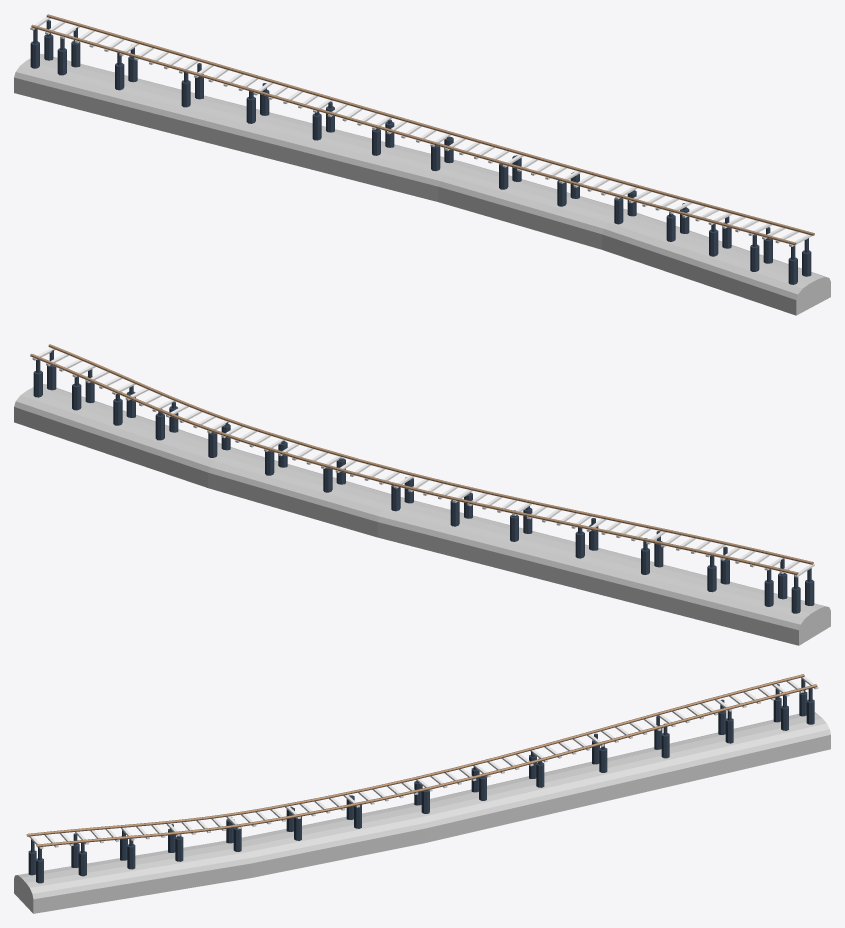
Rendered from RC_Playground_01.fbx.
The picture shows the model from 3 angles, top to bottom: view 1: azimuth 30°, elevation 25°; view 2: azimuth 210°, elevation 25°; view 3: azimuth 270°, elevation 25°; orthographic projection. The views are drawn at different scales.
Parts seen in each view (by area): view 1: Platform.002, Columns.002, Path.002, RailStep.002; view 2: Platform.002, Columns.002, Path.002, RailStep.002; view 3: Platform.002, Columns.002, Path.002, RailStep.002.
Boxes of the visible parts, x1,y1,x2,y2 form: Platform.002: (14, 53, 830, 315); Columns.002: (30, 20, 811, 284); Path.002: (31, 14, 814, 245); RailStep.002: (30, 17, 811, 246); Platform.002: (14, 384, 830, 645); Columns.002: (33, 350, 814, 613); Path.002: (30, 344, 813, 575); RailStep.002: (32, 348, 814, 577); Platform.002: (14, 712, 830, 913); Columns.002: (28, 678, 814, 883); Path.002: (26, 674, 817, 847); RailStep.002: (29, 676, 818, 848).
Bounding box in the file's own units: 3401 × 531 × 6356.
